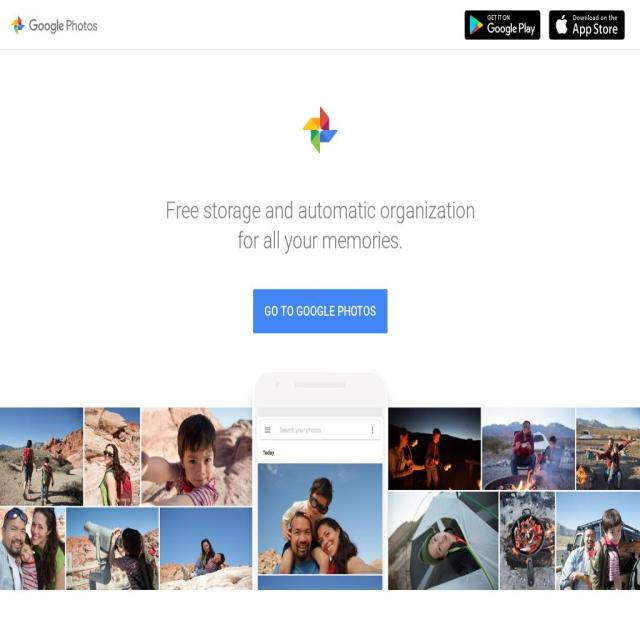button: (252, 289, 388, 333), (0, 0, 108, 50)
heading: (165, 197, 475, 224), (237, 227, 403, 254)
image: (0, 353, 640, 590), (0, 0, 108, 50), (464, 9, 540, 40), (549, 9, 625, 40), (300, 103, 340, 157)
text: (264, 303, 376, 319)
